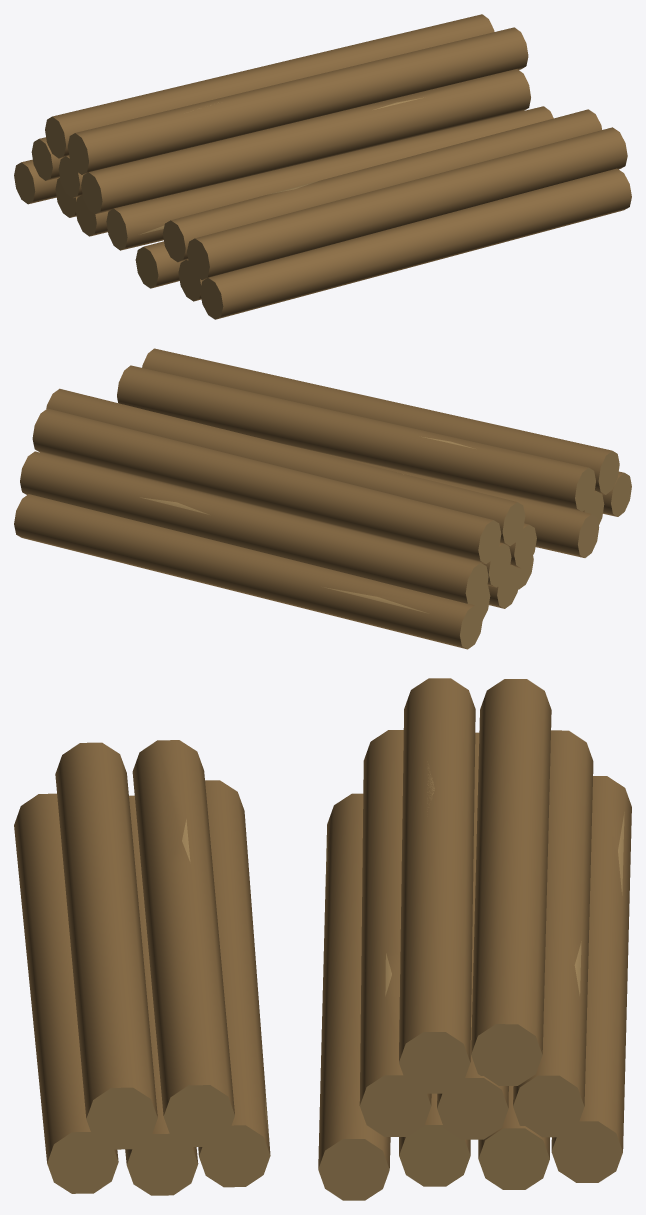
File: quaternius-real-time-strategy-logs.glb
The picture shows the model from 3 angles, top to bottom: view 1: azimuth 30°, elevation 25°; view 2: azimuth 150°, elevation 25°; view 3: azimuth 270°, elevation 25°; orthographic projection. The views are drawn at different scales.
Parts seen in each view (by area): view 1: Logs; view 2: Logs; view 3: Logs.
Boxes of the visible parts, x1,y1,x2,y2 form: Logs: (14,14,631,319); Logs: (14,348,631,649); Logs: (14,678,631,1200).
Size of the model in its own units: 1.16 by 0.2456 by 0.8352.
